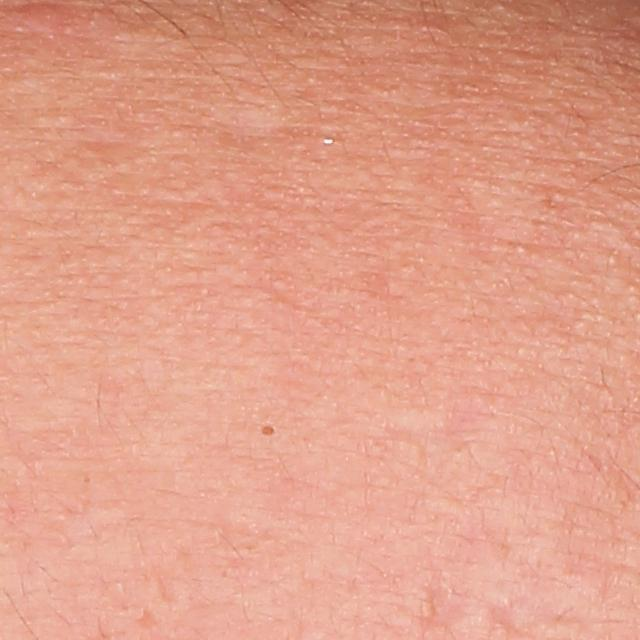atrophic_scar: (414, 568, 489, 630), (138, 607, 161, 630)
comedo: (257, 418, 284, 443)
